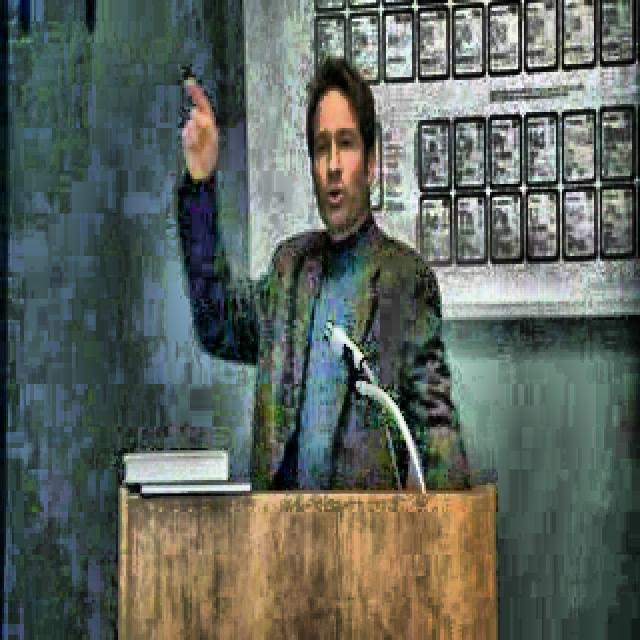T: (160, 49, 472, 496)
